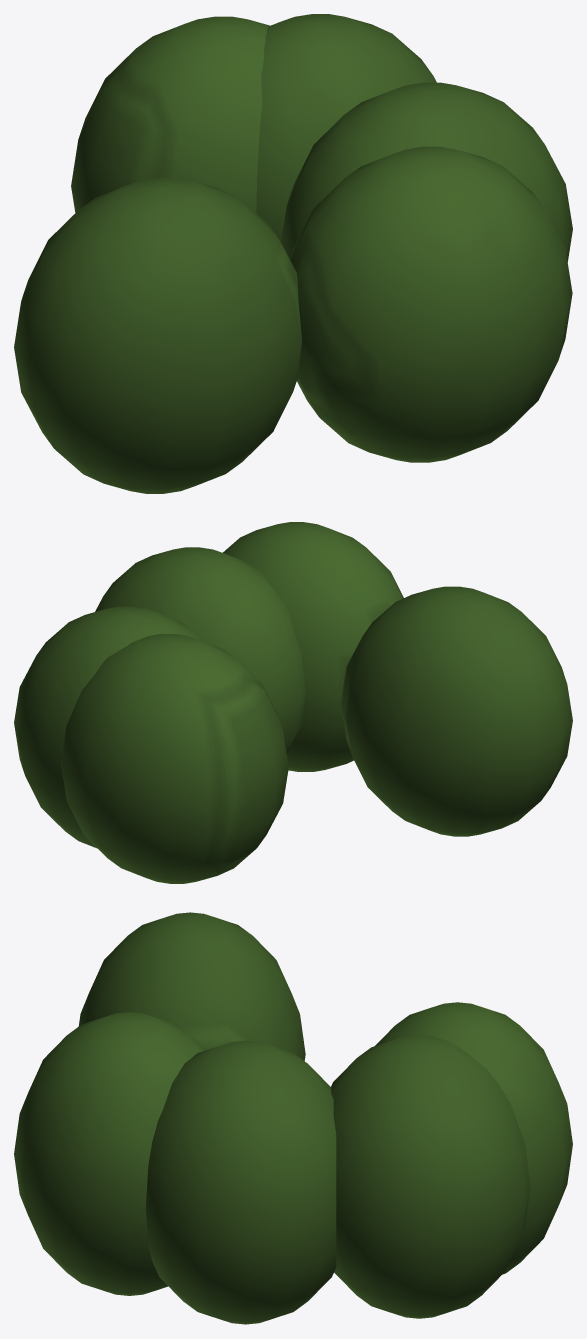
Rendered from Foliage_5.fbx.
3 views of the same model, one above another, from view 1: azimuth 30°, elevation 25°; view 2: azimuth 150°, elevation 25°; view 3: azimuth 270°, elevation 25° (orthographic). The views are drawn at different scales.
Parts seen in each view (by area): view 1: Foliage_5; view 2: Foliage_5; view 3: Foliage_5.
Part boxes in pixels (x1,y1,x2,y2): Foliage_5: (14, 14, 572, 493); Foliage_5: (14, 522, 572, 883); Foliage_5: (14, 912, 572, 1324).
Bounding box in the file's own units: 59.54 × 30 × 58.11.
1 material, 1 textured.
